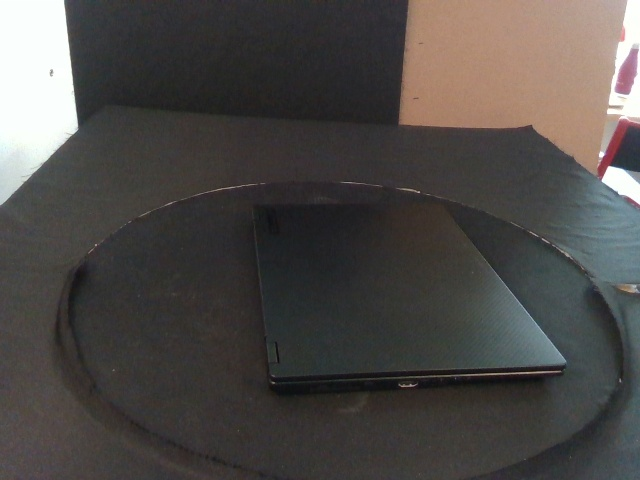laptop: (250, 200, 567, 395)
